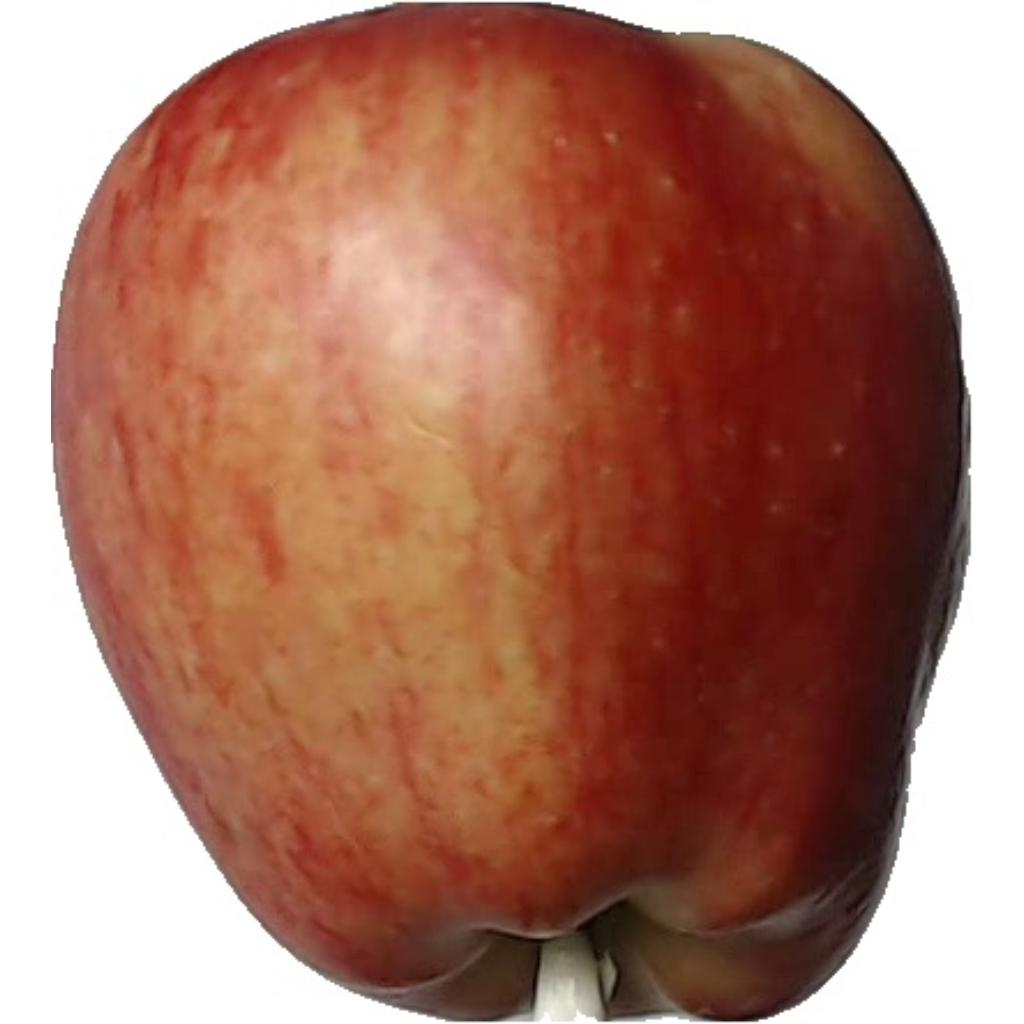apple: (51, 5, 971, 1024)
